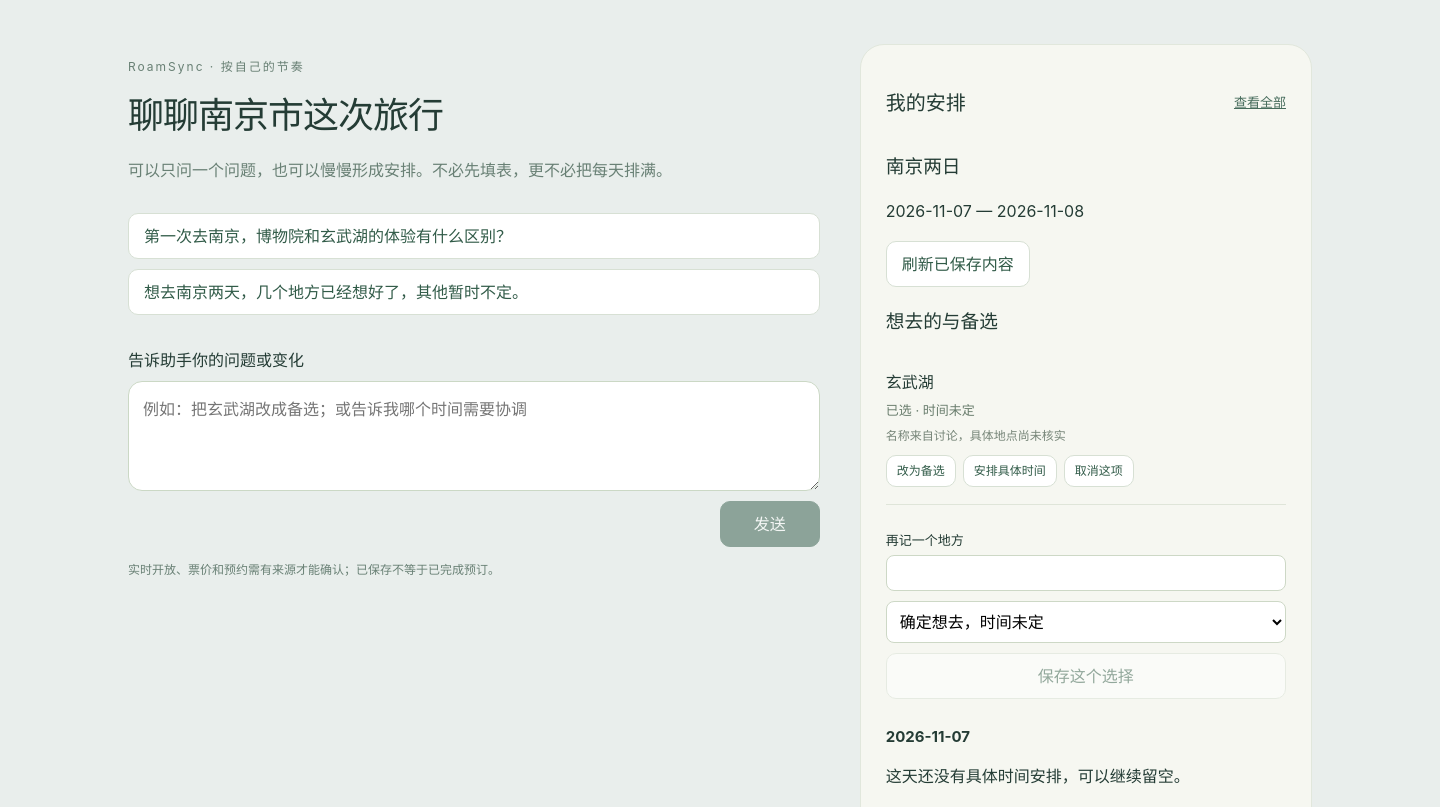
Scenario: natural assistant result boundary › shows a human conflict and never retries the stale edit automatically
Click the button "改为备选" at [921, 471], box x1=886 y1=455 x2=956 y2=487
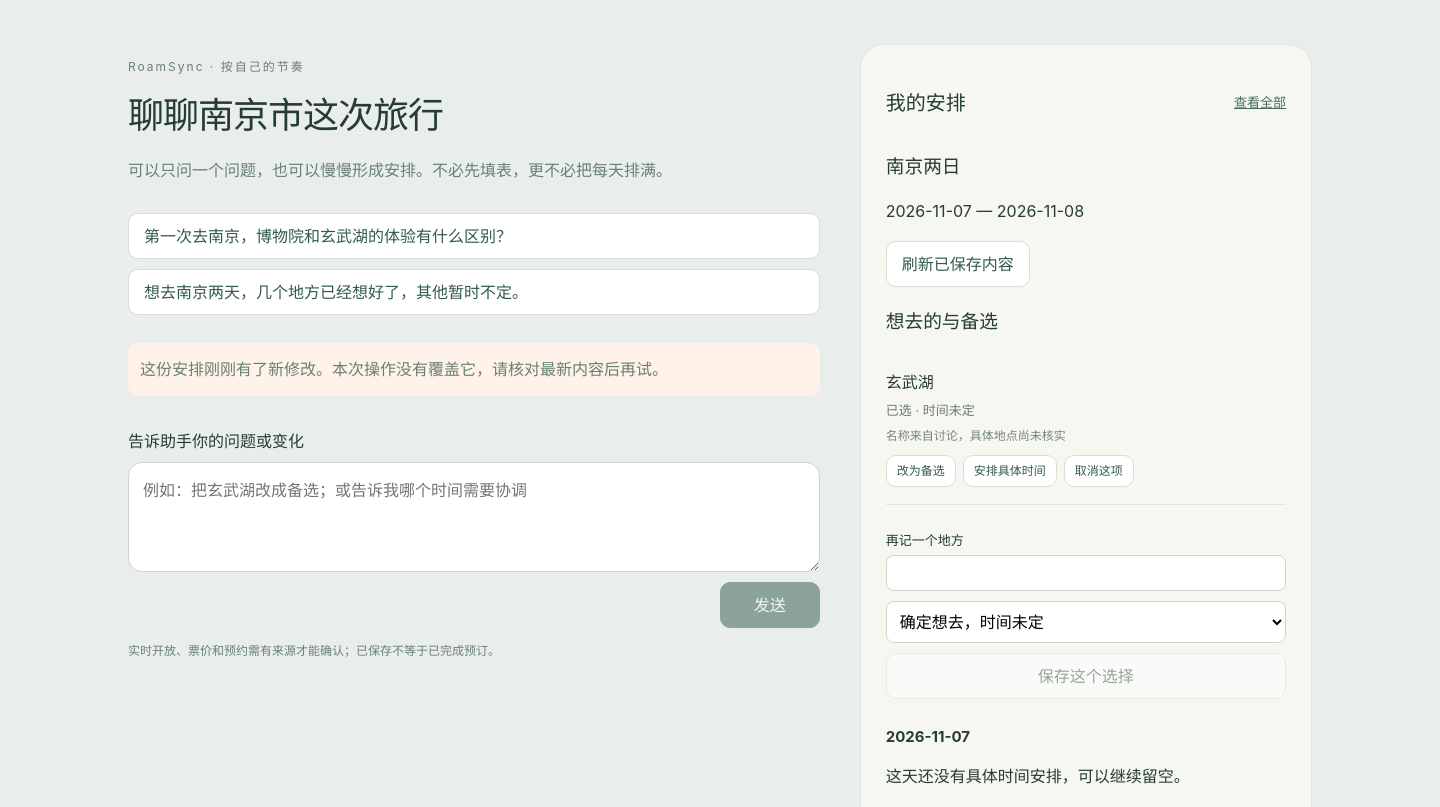
Check: the message shows "本次操作没有覆盖它", box x1=140 y1=359 x2=668 y2=379
